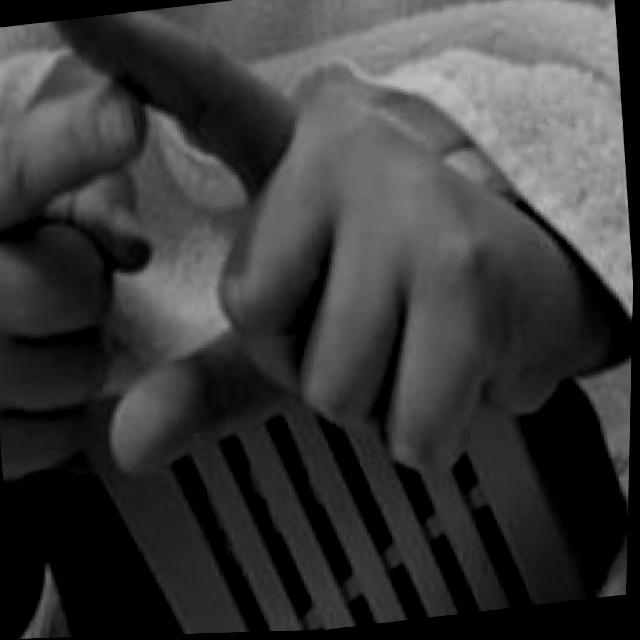J: (0, 0, 591, 528)
